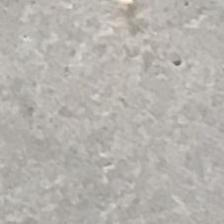Non_Crack: (20, 14, 166, 216)
